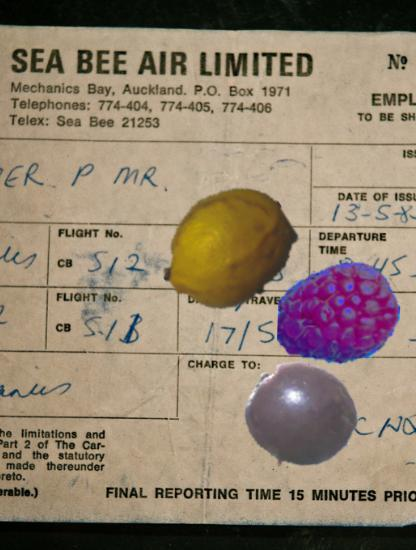Lemon: (158, 180, 297, 319)
Passion: (244, 359, 356, 471)
Raspberry: (278, 252, 400, 374)
